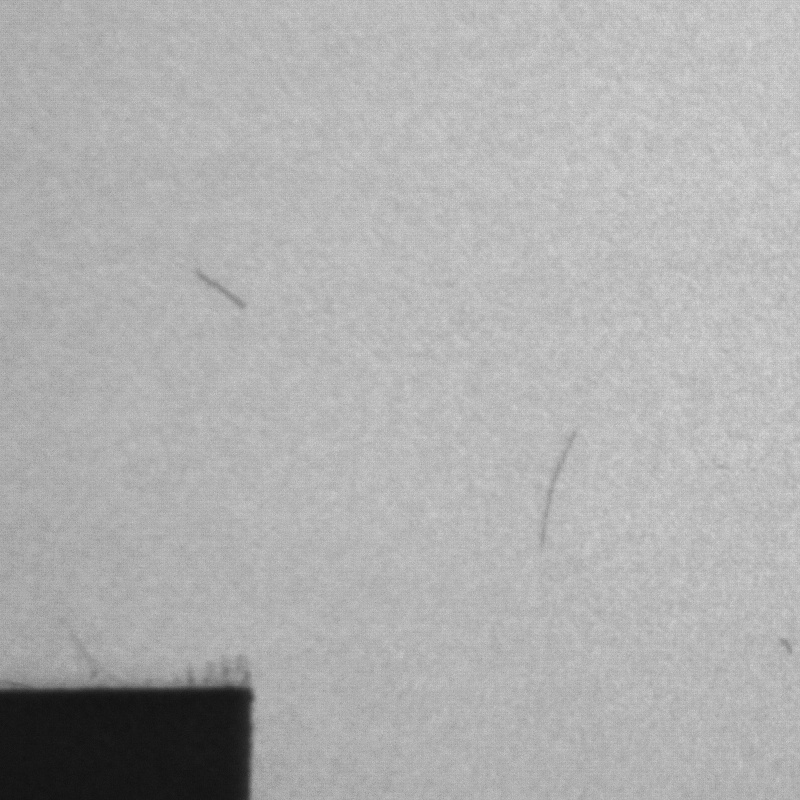defect: (535, 433, 575, 548), (194, 270, 247, 310), (68, 626, 104, 679), (775, 631, 794, 658)
